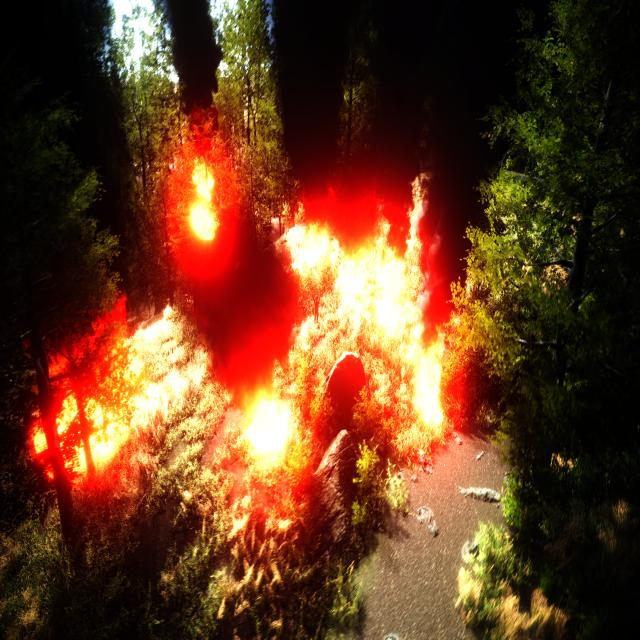Human: (310, 287, 324, 334)
